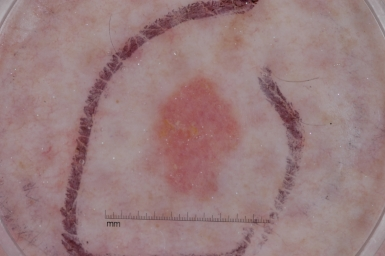seborrheic keratosis: (139, 66, 246, 210)
